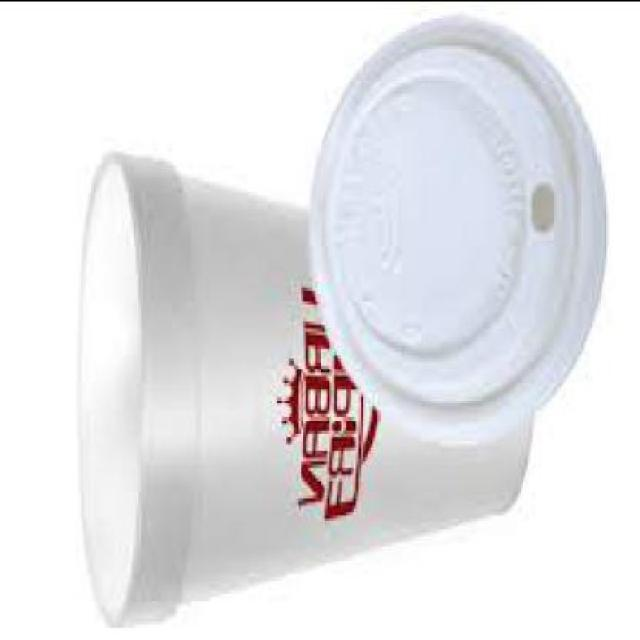PAPER: (74, 153, 532, 619)
PLASTIC: (306, 14, 602, 443)
